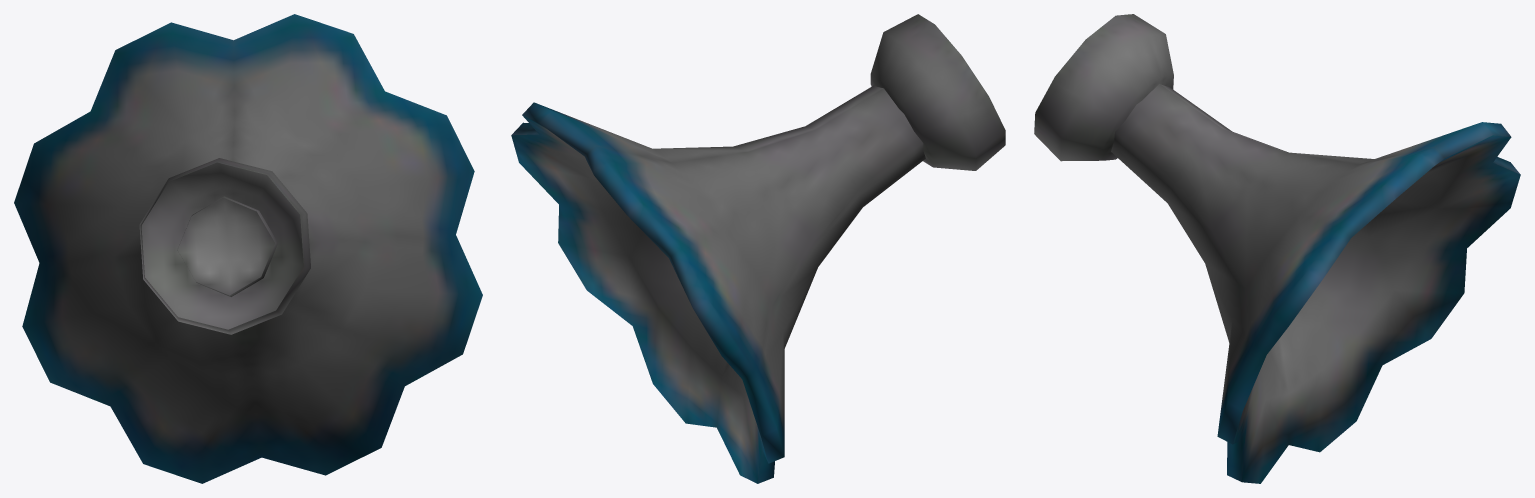
Rendered from JiJiaPao_danqiping_01.FBX.
3 renders of one model, left to right at view 1: azimuth 30°, elevation 25°; view 2: azimuth 150°, elevation 25°; view 3: azimuth 270°, elevation 25°, orthographic. The views are drawn at different scales.
Parts seen in each view (by area): view 1: JiJiaPao_danqiping_01; view 2: JiJiaPao_danqiping_01; view 3: JiJiaPao_danqiping_01.
Boxes of the visible parts, bbox=[...] form: JiJiaPao_danqiping_01: bbox=[14, 14, 482, 483]; JiJiaPao_danqiping_01: bbox=[511, 14, 1005, 483]; JiJiaPao_danqiping_01: bbox=[1034, 14, 1520, 483].
Bounding box in the file's own units: 0.6905 × 0.6598 × 0.7411.
